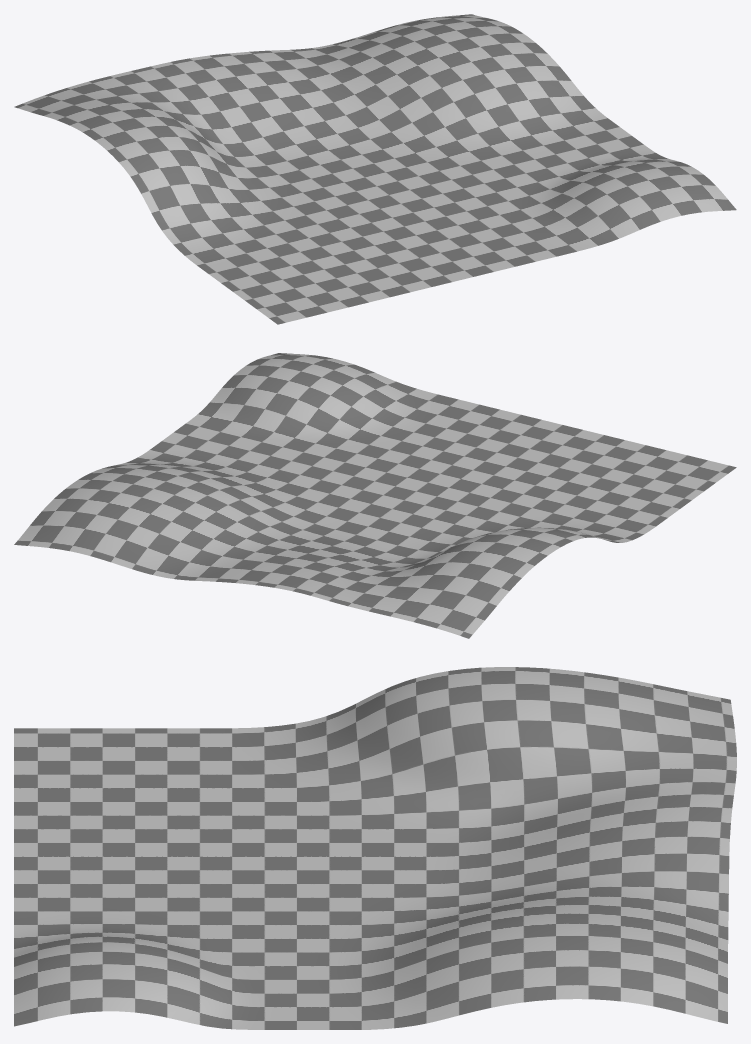
File: Def.gltf
The picture shows the model from 3 angles, top to bottom: view 1: azimuth 30°, elevation 25°; view 2: azimuth 150°, elevation 25°; view 3: azimuth 270°, elevation 25°; orthographic projection. The views are drawn at different scales.
Visible parts, largest first — view 1: Cube; view 2: Cube; view 3: Cube.
Part boxes in pixels (left/top/right/bottom): Cube: left=14, top=14, right=736, bottom=324; Cube: left=14, top=353, right=736, bottom=638; Cube: left=14, top=667, right=736, bottom=1029.
Size of the model in its own units: 41.2 by 4.21 by 41.72.
1 material, 1 textured.
